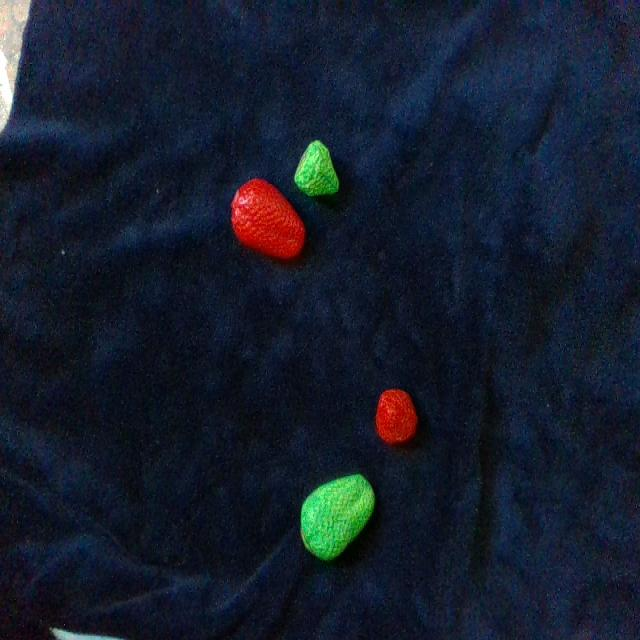chica_roja: (376, 391, 415, 443)
grande_roja: (232, 180, 304, 257)
verde: (302, 475, 374, 560), (295, 140, 338, 196)
